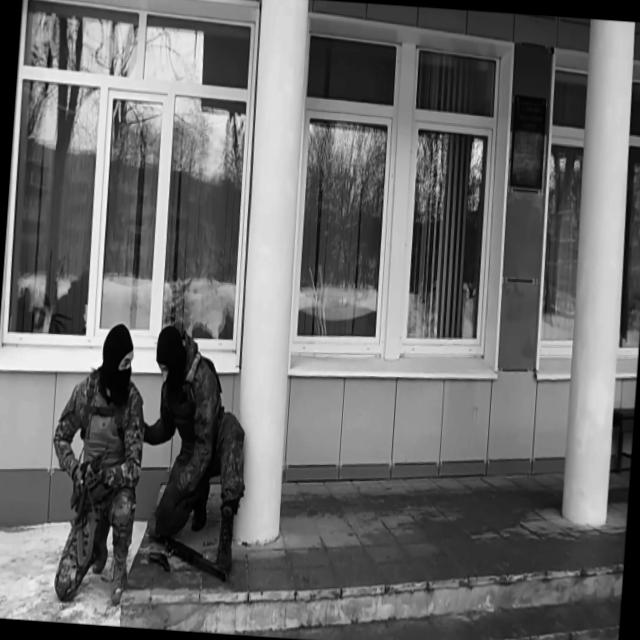gun: (145, 524, 232, 584), (67, 440, 111, 524), (146, 547, 172, 576)
person with a gun: (132, 323, 257, 582), (42, 316, 152, 606)
